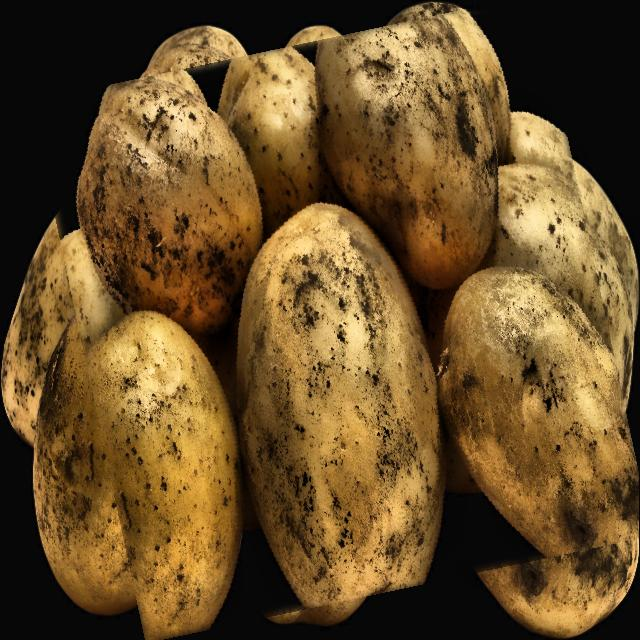onion: (50, 52, 60, 63)
potato: (57, 18, 627, 619)
